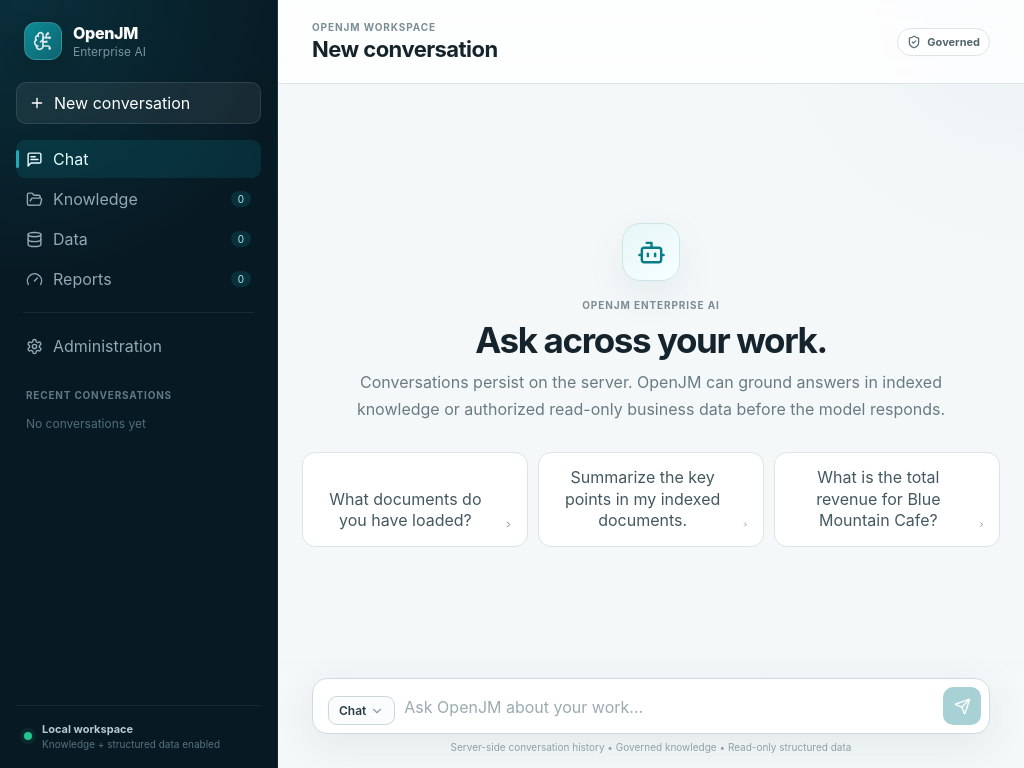
Test case: an assistant artifact reference renders a downloadable card without source
Type "make me a markdown file" into the text box with placeholder "Ask OpenJM about your work..." at {"x": 669, "y": 706}, box [404,687,934,725]
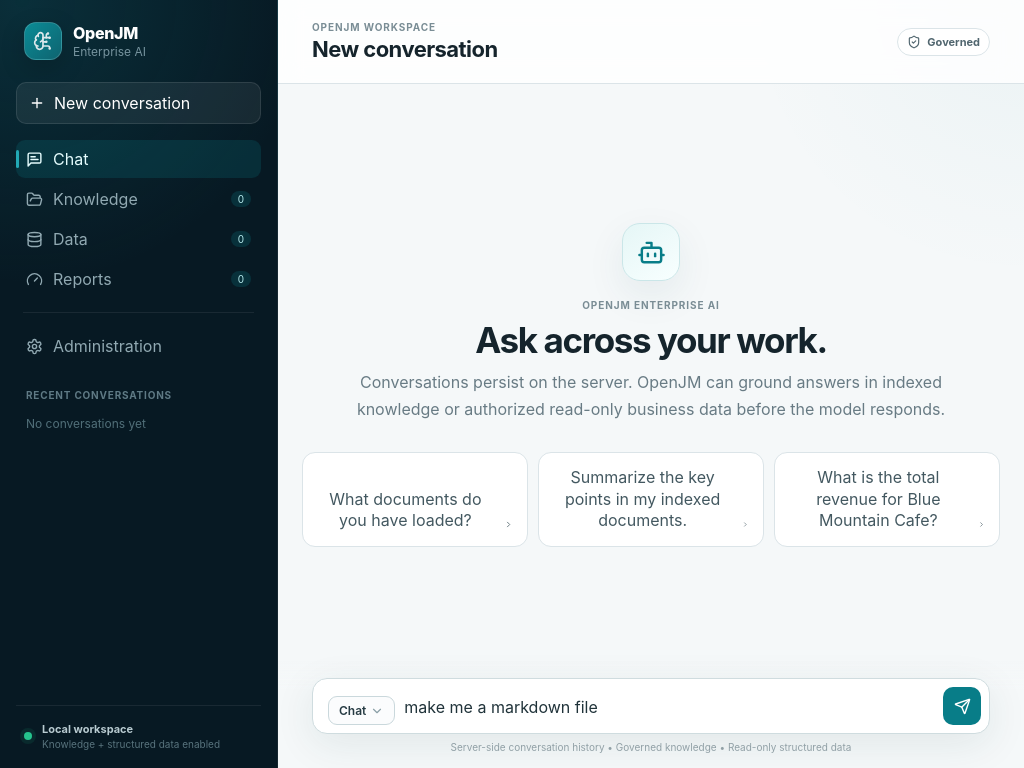
Press Enter in the text box with placeholder "Ask OpenJM about your work...", box [404,687,934,725]
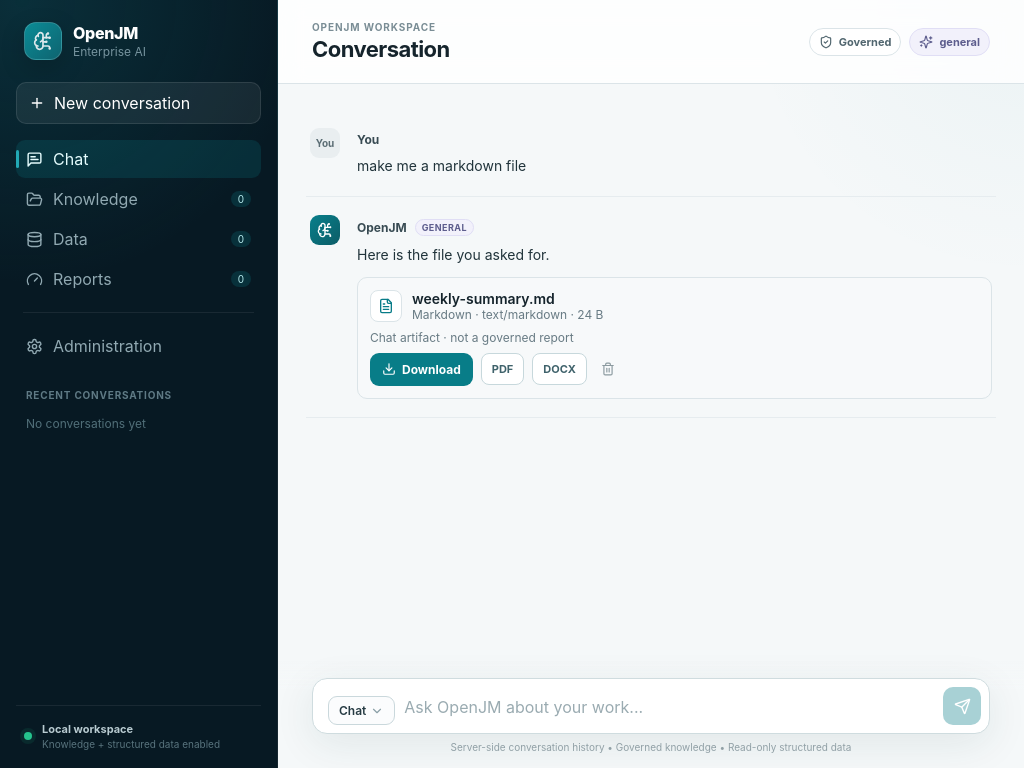
expect the text "weekly-summary.md" is shown: met, box [412,290,555,307]
expect the button with aria-label "Download weekly-summary.md" is shown: met, box [370,353,473,386]
expect the text "Chat artifact · not a governed report" is shown: met, box [370,330,574,345]
